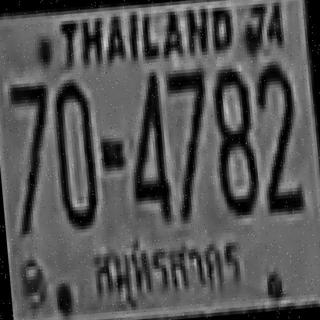N00: (50, 78, 98, 228)
N02: (252, 59, 300, 195)
N04: (123, 68, 171, 221)
N07: (7, 80, 58, 226), (164, 66, 214, 213), (7, 80, 55, 197), (164, 64, 211, 178), (7, 78, 53, 176), (164, 65, 210, 159)
N08: (208, 64, 258, 214)
P58: (81, 218, 251, 316)
